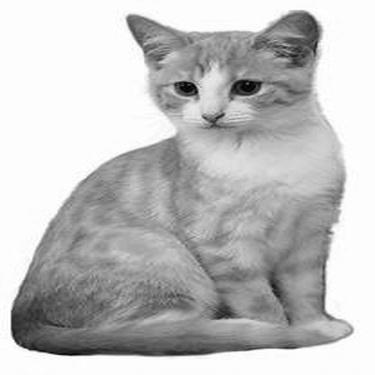cat: (7, 10, 353, 358)
